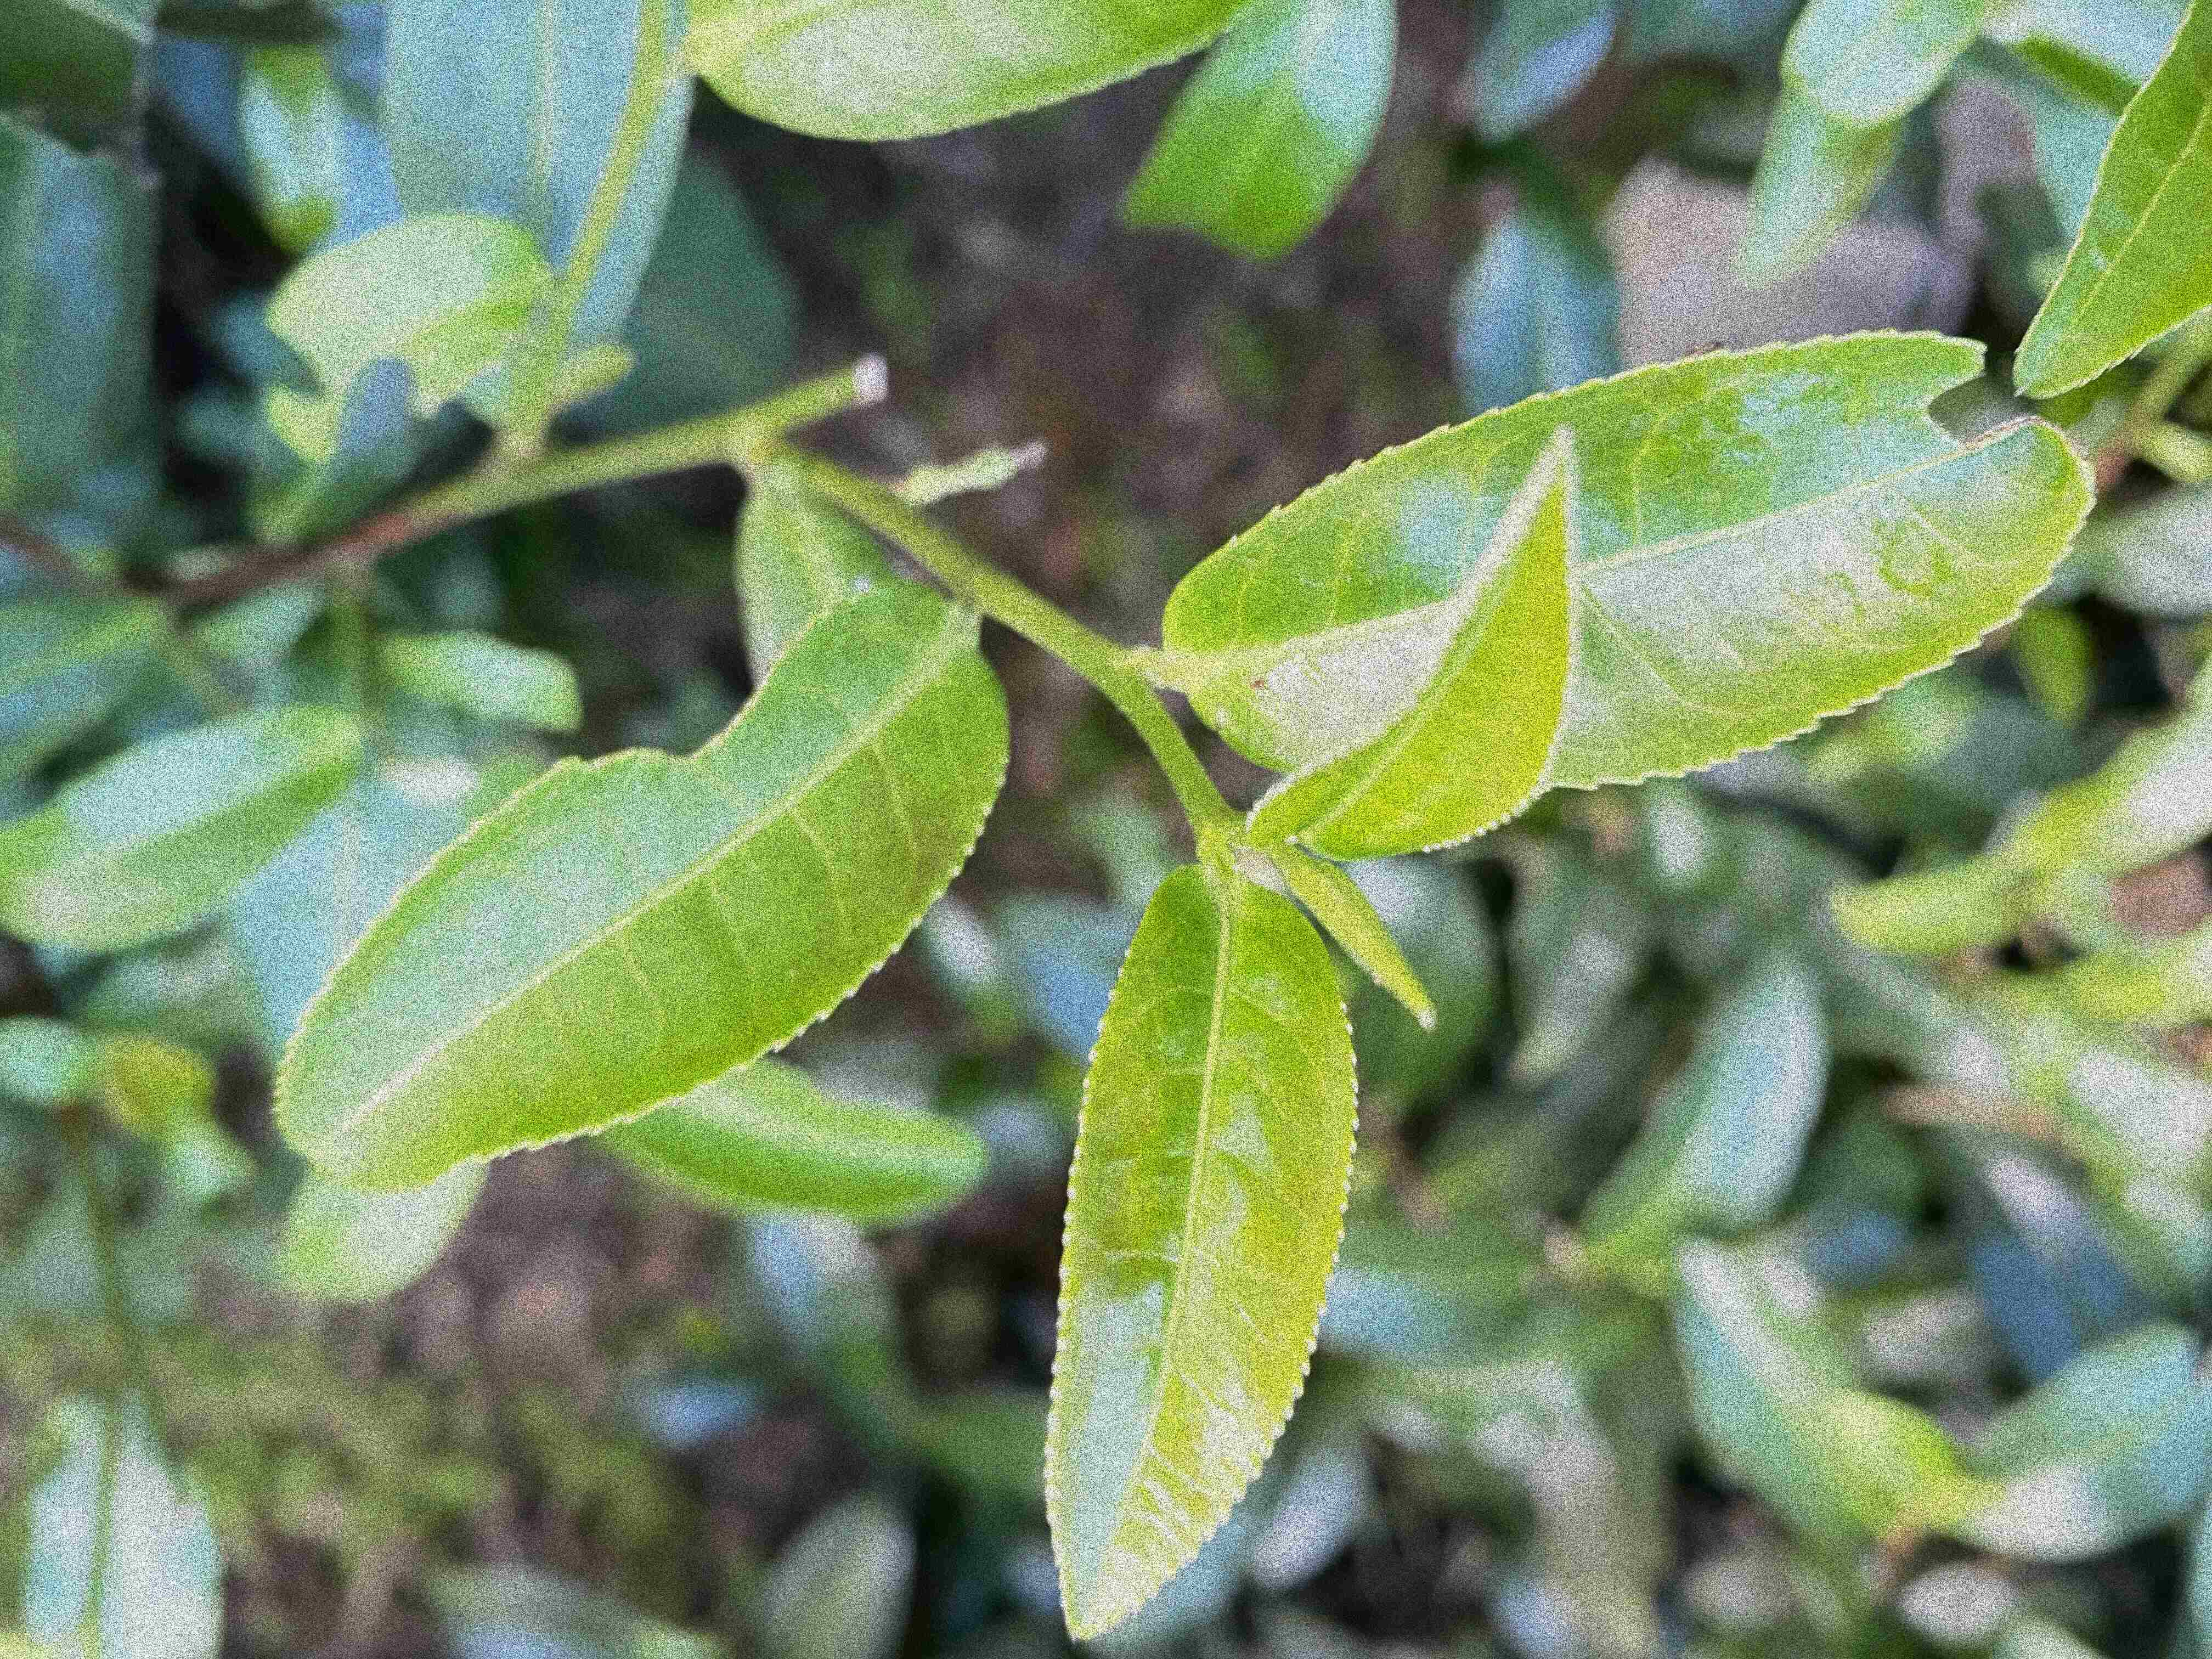chihuo_low: (272, 580, 1017, 1194), (1162, 328, 2099, 795)
healthy: (1038, 863, 1367, 1645), (1247, 429, 1580, 864)
